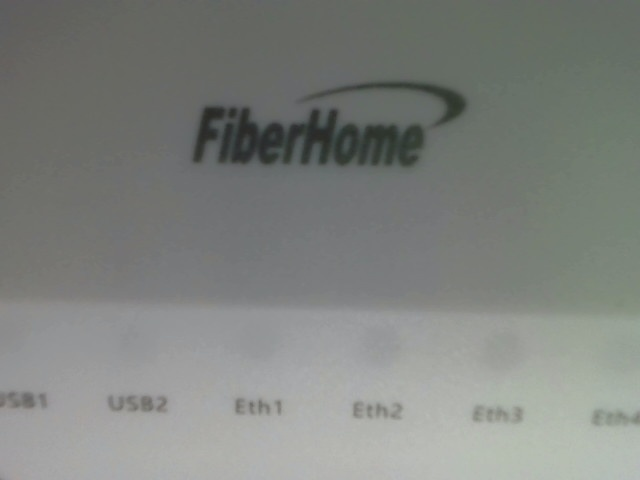AI_FiberHome: (173, 69, 474, 191)
